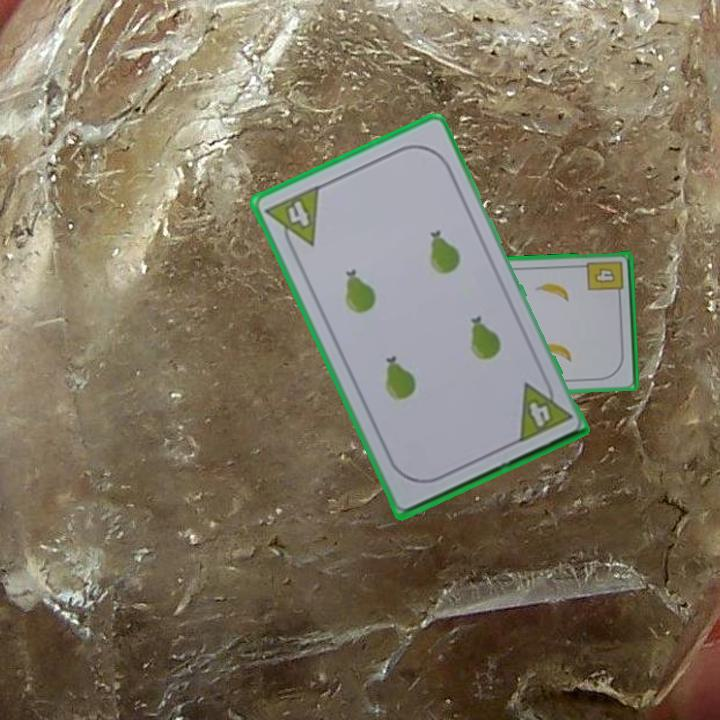4b: (584, 257, 627, 301)
4p: (262, 181, 323, 257), (513, 372, 575, 446)
